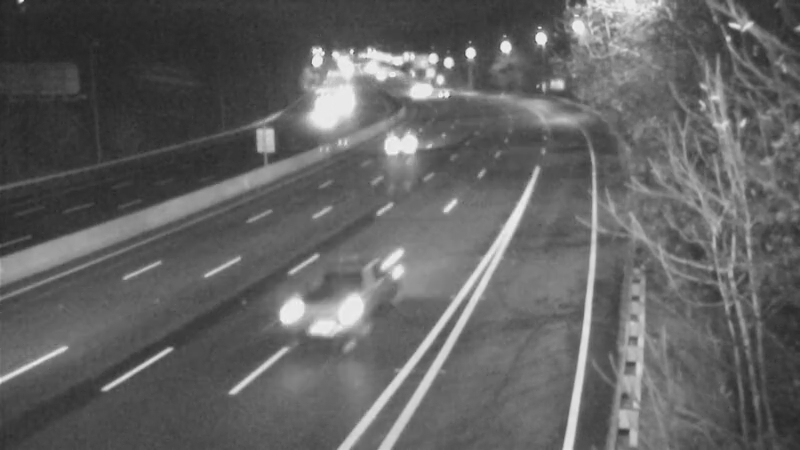vehicle: (268, 263, 378, 373), (393, 67, 443, 117), (423, 68, 473, 118), (377, 119, 427, 169)
